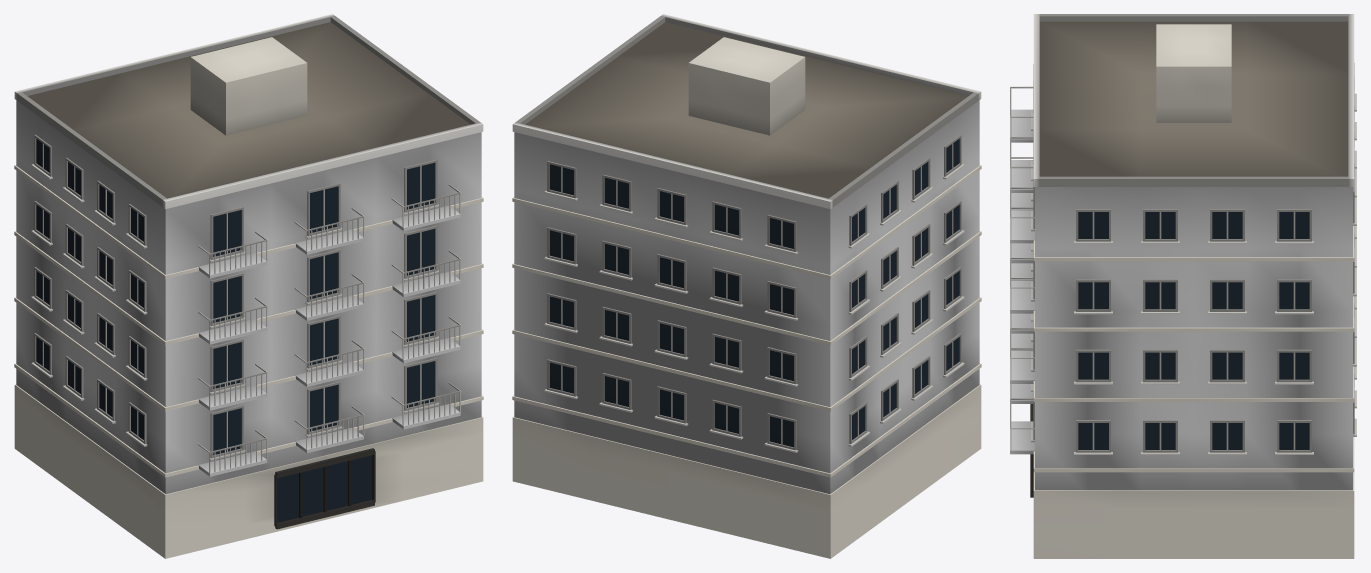
The model's file is departamentos-B0Jdwq2x.glb.
3 renders of one model, left to right at view 1: azimuth 30°, elevation 25°; view 2: azimuth 150°, elevation 25°; view 3: azimuth 270°, elevation 25°, orthographic. The views are drawn at different scales.
Visible parts, largest first — view 1: pieza, pieza.002, pieza.001, pieza.007, pieza.008, pieza.003, pieza.004, pieza.005, pieza.006, pieza.113, pieza.211, pieza.064 (+27 smaller); view 2: pieza, pieza.002, pieza.001, pieza.007, pieza.004, pieza.003, pieza.113, pieza.211, pieza.064, pieza.162, pieza.005, pieza.006 (+20 smaller); view 3: pieza, pieza.002, pieza.001, pieza.007, pieza.006, pieza.005, pieza.162, pieza.064, pieza.211, pieza.113, pieza.003, pieza.004 (+24 smaller).
Part boxes in pixels (<box>): pieza: <box>16,100,481,494</box>; pieza.002: <box>27,22,470,198</box>; pieza.001: <box>14,384,483,558</box>; pieza.007: <box>190,37,307,135</box>; pieza.008: <box>277,455,372,522</box>; pieza.003: <box>162,122,483,208</box>; pieza.004: <box>14,14,334,100</box>; pieza.005: <box>17,92,166,206</box>; pieza.006: <box>330,16,479,124</box>; pieza.113: <box>14,297,483,411</box>; pieza.211: <box>14,165,483,279</box>; pieza.064: <box>14,363,483,477</box>; pieza: <box>514,100,979,494</box>; pieza.002: <box>525,22,968,198</box>; pieza.001: <box>512,384,981,558</box>; pieza.007: <box>688,37,805,135</box>; pieza.004: <box>512,122,833,208</box>; pieza.003: <box>661,14,981,100</box>; pieza.113: <box>512,297,981,411</box>; pieza.211: <box>512,165,981,279</box>; pieza.064: <box>512,363,981,477</box>; pieza.162: <box>512,231,981,345</box>; pieza.005: <box>829,92,978,206</box>; pieza.006: <box>516,16,665,124</box>; pieza: <box>1035,187,1352,490</box>; pieza.002: <box>1039,21,1348,176</box>; pieza.001: <box>1033,472,1354,558</box>; pieza.007: <box>1156,24,1231,122</box>; pieza.006: <box>1039,176,1348,186</box>; pieza.005: <box>1039,14,1348,21</box>; pieza.162: <box>1033,296,1354,331</box>; pieza.064: <box>1033,437,1354,472</box>; pieza.211: <box>1033,226,1354,261</box>; pieza.113: <box>1033,366,1354,401</box>; pieza.003: <box>1033,14,1039,186</box>; pieza.004: <box>1348,14,1354,186</box>.
Size of the model in its own units: 15.82 by 19 by 13.86.
